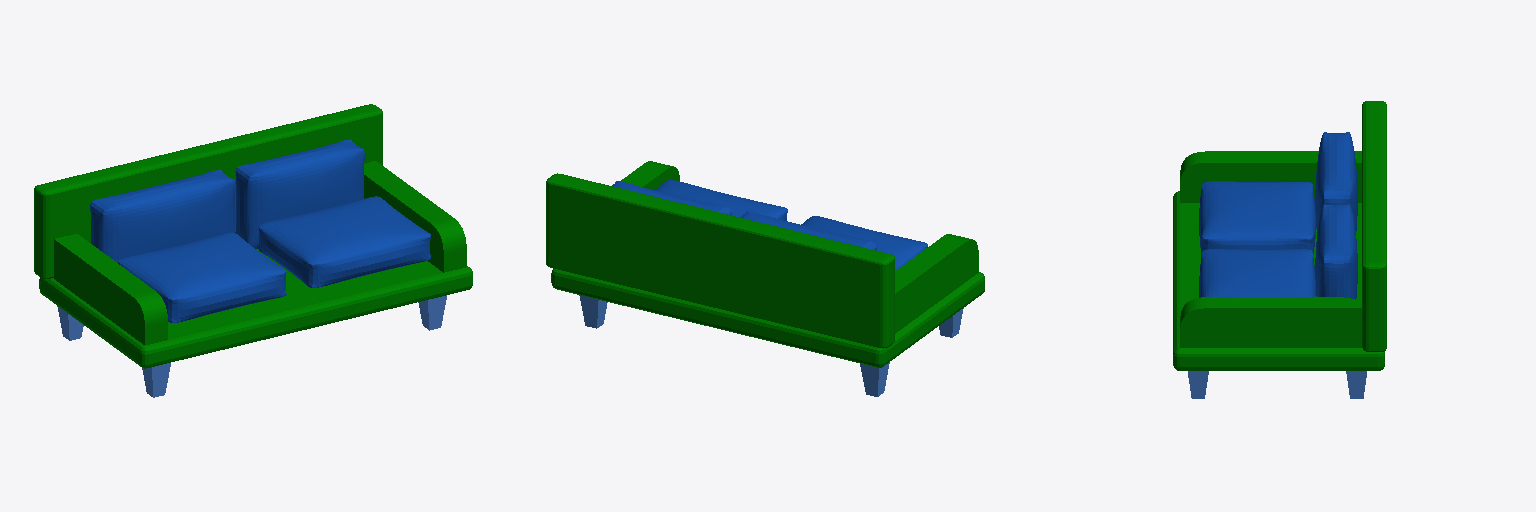
The model's file is sofa_texture_wall.obj.
3 renders of one model, left to right at view 1: azimuth 30°, elevation 25°; view 2: azimuth 150°, elevation 25°; view 3: azimuth 270°, elevation 25°, orthographic.
Visible parts, largest first — view 1: ChamferBox001, ChamferBox002, Box005, Box001, Box003, Box004, Box008, Box009; view 2: ChamferBox002, ChamferBox001, Box001, Box005, Box003, Box004, Box011, Box010; view 3: ChamferBox001, Box001, ChamferBox002, Box005, Box004, Box003.
Part boxes in pixels (left/top/right/bottom): ChamferBox001: left=39, top=161, right=472, bottom=368; ChamferBox002: left=34, top=104, right=382, bottom=278; Box005: left=258, top=196, right=430, bottom=287; Box001: left=118, top=232, right=286, bottom=322; Box003: left=90, top=170, right=235, bottom=262; Box004: left=235, top=140, right=364, bottom=248; Box008: left=142, top=363, right=170, bottom=397; Box009: left=418, top=295, right=446, bottom=330; ChamferBox002: left=546, top=173, right=894, bottom=348; ChamferBox001: left=551, top=161, right=984, bottom=367; Box001: left=801, top=216, right=927, bottom=270; Box005: left=655, top=180, right=787, bottom=220; Box003: left=740, top=211, right=876, bottom=250; Box004: left=612, top=181, right=731, bottom=214; Box011: left=860, top=362, right=889, bottom=396; Box010: left=579, top=295, right=607, bottom=328; ChamferBox001: left=1173, top=151, right=1384, bottom=370; Box001: left=1199, top=181, right=1315, bottom=255; ChamferBox002: left=1362, top=101, right=1386, bottom=351; Box005: left=1199, top=249, right=1315, bottom=297; Box004: left=1315, top=204, right=1357, bottom=299; Box003: left=1315, top=132, right=1357, bottom=231.
Size of the model in its own units: 251 by 103 by 136.